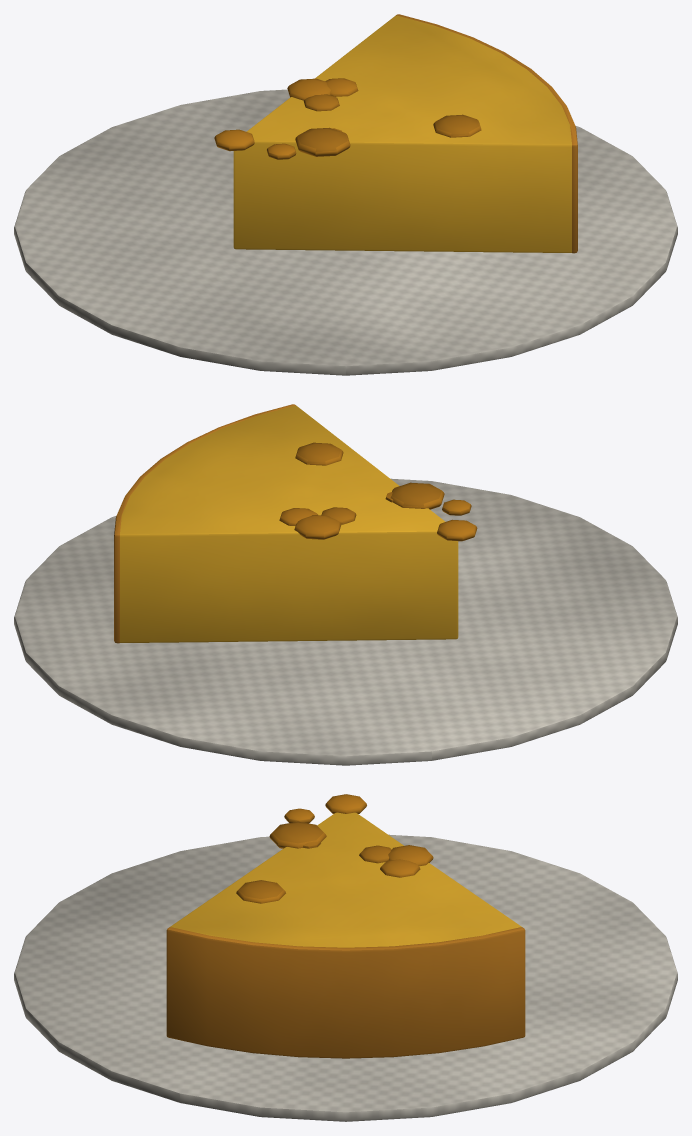
The model's file is prop_cheese_wedge.glb.
3 views of the same model, one above another, from view 1: azimuth 30°, elevation 25°; view 2: azimuth 150°, elevation 25°; view 3: azimuth 270°, elevation 25° (orthographic).
Visible parts, largest first — view 1: prop_cheese_wedge; view 2: prop_cheese_wedge; view 3: prop_cheese_wedge.
Boxes of the visible parts, x1,y1,x2,y2 form: prop_cheese_wedge: [14, 14, 677, 375]; prop_cheese_wedge: [14, 404, 677, 765]; prop_cheese_wedge: [14, 794, 677, 1121].
Size of the model in its own units: 0.66 by 0.1439 by 0.66.
4 materials, 4 textured.
